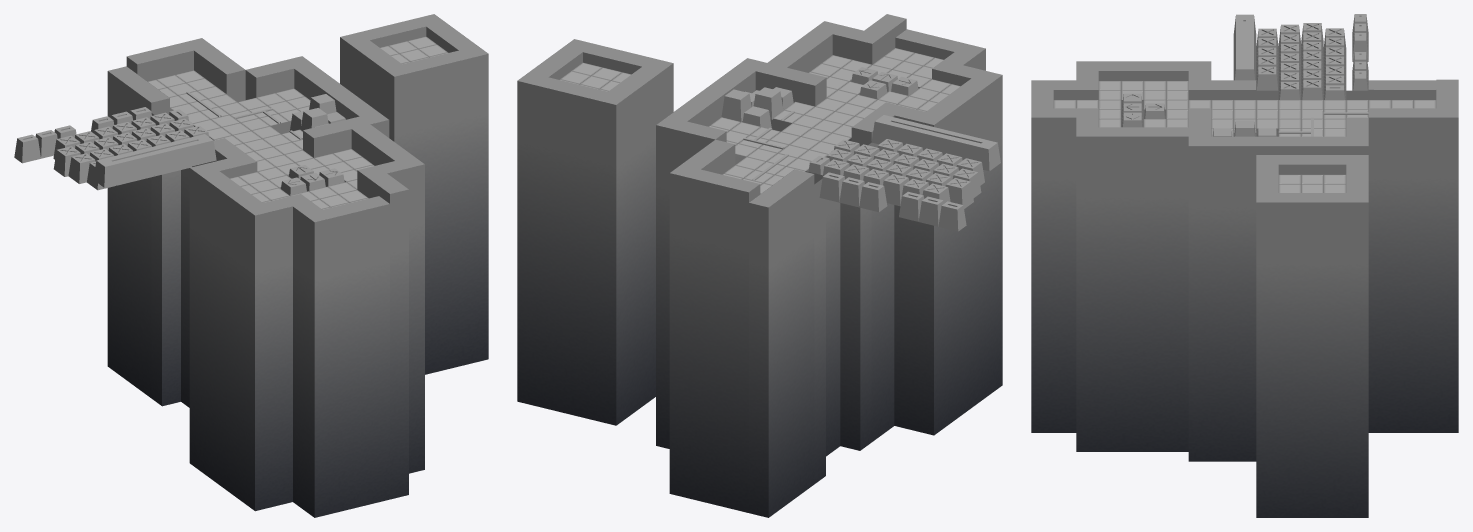
Rendered from Level_1.fbx.
The picture shows the model from 3 angles, left to right: view 1: azimuth 30°, elevation 25°; view 2: azimuth 150°, elevation 25°; view 3: azimuth 270°, elevation 25°; orthographic projection. The views are drawn at different scales.
Visible parts, largest first — view 1: Wall_1, Wall_6, Wall_2, Floor_Main, Wall_4, Wall_5, Key_Cross, Keys_Active, Wall_3, Keys_environment, Floor_Platform; view 2: Wall_6, Wall_1, Wall_3, Wall_4, Wall_2, Wall_5, Floor_Main, Key_Cross, Keys_Active, Keys_environment, Floor_Platform; view 3: Wall_2, Wall_6, Wall_3, Floor_Main, Key_Cross, Wall_1, Keys_Active, Wall_4, Floor_Platform, Keys_environment, Wall_5.
Part boxes in pixels (box(x1,y1,x2,y2)): Wall_1: box(189, 138, 389, 517); Wall_6: box(340, 14, 488, 374); Wall_2: box(245, 56, 424, 499); Floor_Main: box(148, 70, 374, 209); Wall_4: box(107, 66, 169, 397); Wall_5: box(151, 113, 213, 407); Key_Cross: box(14, 107, 208, 190); Keys_Active: box(93, 134, 344, 195); Wall_3: box(126, 38, 245, 140); Keys_environment: box(290, 94, 345, 131); Floor_Platform: box(380, 36, 448, 64); Wall_6: box(517, 39, 673, 425); Wall_1: box(851, 29, 1002, 441); Wall_3: box(669, 139, 760, 512); Wall_4: box(749, 169, 814, 517); Wall_2: box(656, 14, 906, 448); Wall_5: box(806, 143, 871, 484); Floor_Main: box(709, 48, 960, 193); Key_Cross: box(808, 139, 984, 231); Keys_Active: box(851, 67, 1000, 171); Keys_environment: box(721, 87, 793, 128); Floor_Platform: box(559, 62, 631, 91); Wall_2: box(1031, 108, 1368, 461); Wall_6: box(1256, 155, 1368, 517); Wall_3: box(1368, 79, 1458, 432); Floor_Main: box(1053, 81, 1436, 136); Key_Cross: box(1256, 14, 1368, 99); Wall_1: box(1031, 61, 1256, 108); Keys_Active: box(1121, 14, 1256, 127); Wall_4: box(1368, 80, 1436, 99); Floor_Platform: box(1278, 174, 1346, 192); Keys_environment: box(1212, 120, 1277, 136); Wall_5: box(1256, 90, 1368, 136).
Bounding box in the file's own units: 2226 × 1597 × 1900.
Materials: 3 (2 with a texture image).
